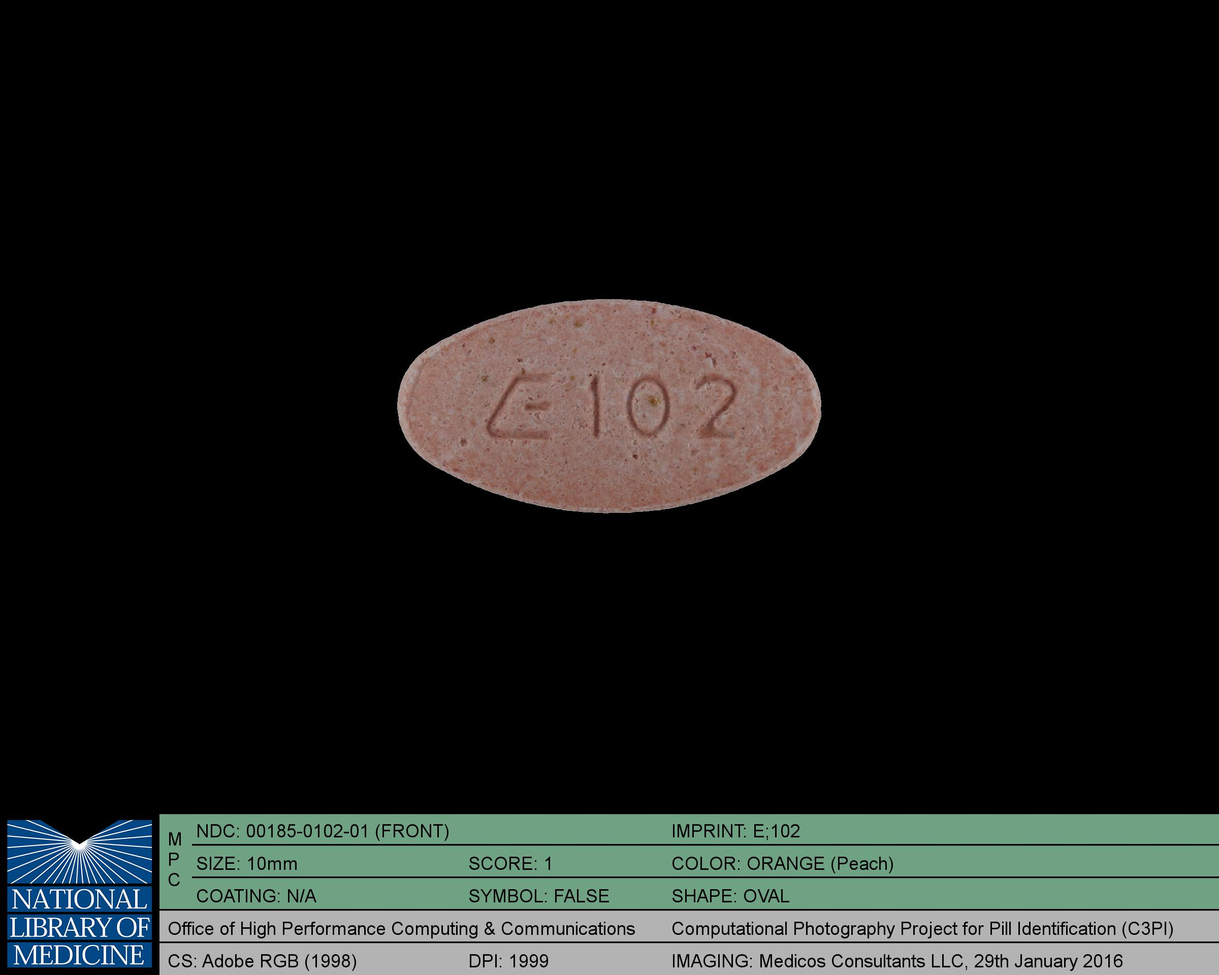Pill: (384, 288, 835, 523)
